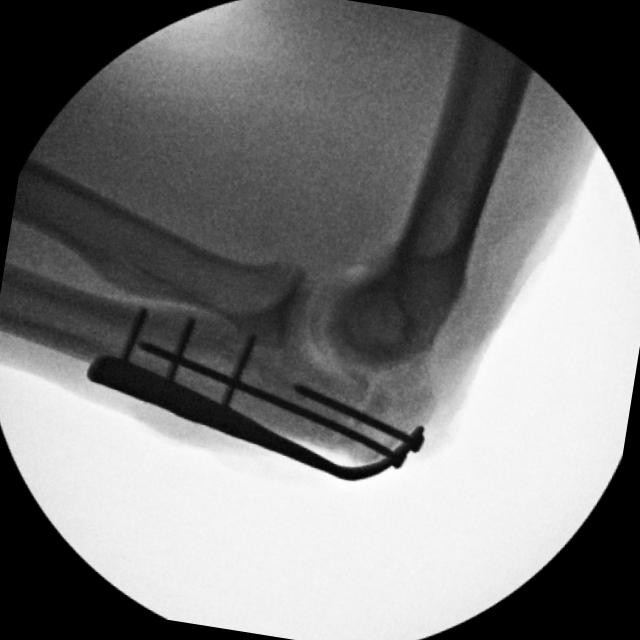elbow positive: (301, 366, 438, 458)
